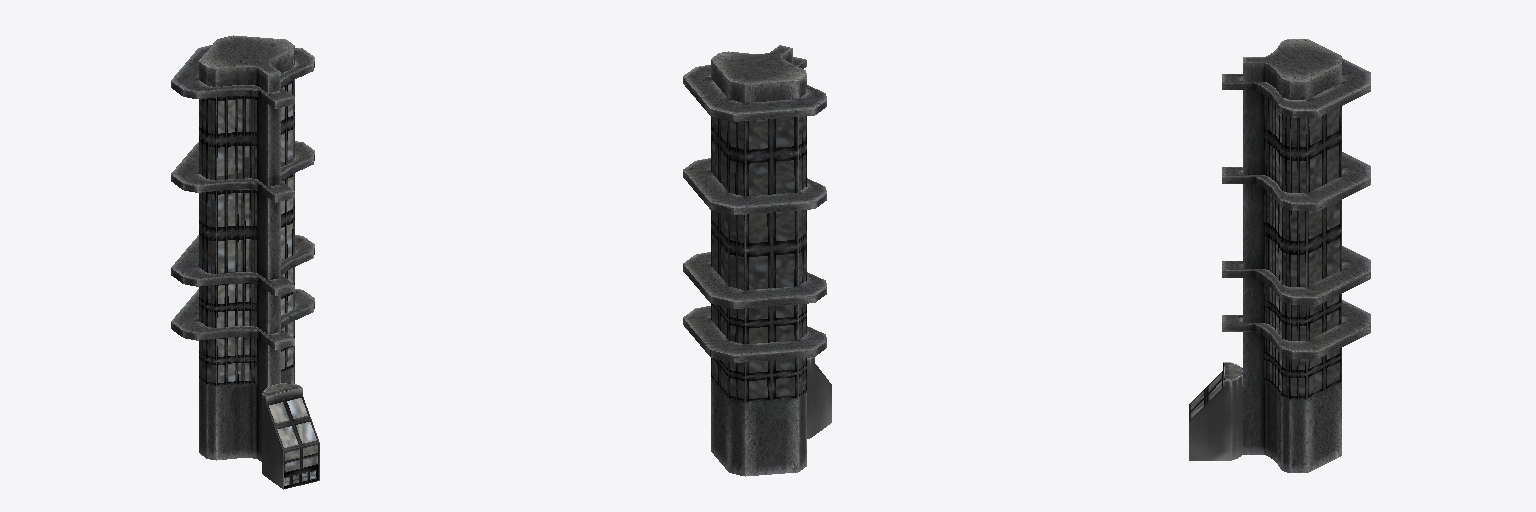
3 renders of one model, left to right at view 1: azimuth 30°, elevation 25°; view 2: azimuth 150°, elevation 25°; view 3: azimuth 270°, elevation 25°, orthographic.
Parts seen in each view (by area): view 1: SkyScraper1_Cube.041; view 2: SkyScraper1_Cube.041; view 3: SkyScraper1_Cube.041.
Part boxes in pixels (x1,y1,x2,y2): SkyScraper1_Cube.041: (171, 35, 319, 489); SkyScraper1_Cube.041: (683, 45, 831, 476); SkyScraper1_Cube.041: (1189, 39, 1370, 472).
Bounding box in the file's own units: 16.59 × 47.05 × 19.85.
Materials: 1 (1 with a texture image).